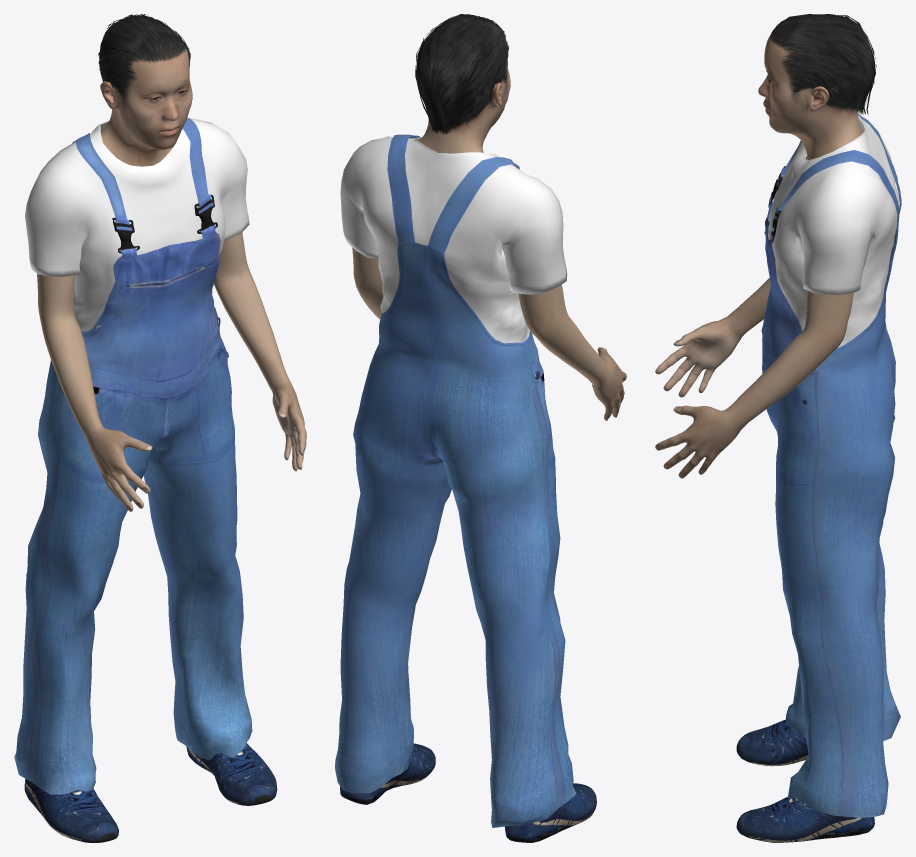
Rendered from uomo-04.glb.
The picture shows the model from 3 angles, left to right: view 1: azimuth 30°, elevation 25°; view 2: azimuth 150°, elevation 25°; view 3: azimuth 270°, elevation 25°; orthographic projection.
Parts seen in each view (by area): view 1: Human.male_worksuit01, Human, Human.shoes06, Human.short04; view 2: Human.male_worksuit01, Human, Human.short04, Human.shoes06; view 3: Human.male_worksuit01, Human, Human.short04, Human.shoes06.
Part boxes in pixels (x1,y1,x2,y2): Human.male_worksuit01: (14, 117, 252, 794); Human: (37, 48, 306, 511); Human.shoes06: (24, 743, 277, 842); Human.short04: (98, 14, 190, 108); Human.male_worksuit01: (335, 134, 576, 827); Human: (352, 39, 626, 420); Human.short04: (415, 14, 509, 134); Human.shoes06: (340, 743, 596, 842); Human.male_worksuit01: (761, 114, 901, 817); Human: (655, 33, 862, 478); Human.short04: (770, 14, 876, 114); Human.shoes06: (736, 719, 874, 842).
Bounding box in the file's own units: 0.4836 × 1.66 × 0.4754.
Materials: 12 (12 with a texture image).
